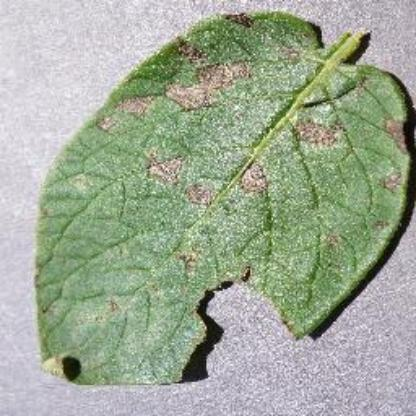Early-Blight: (31, 7, 415, 393)
